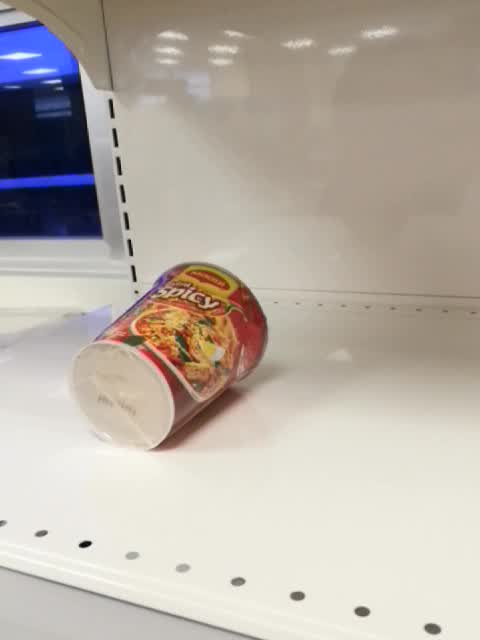maggi: (71, 262, 271, 453)
